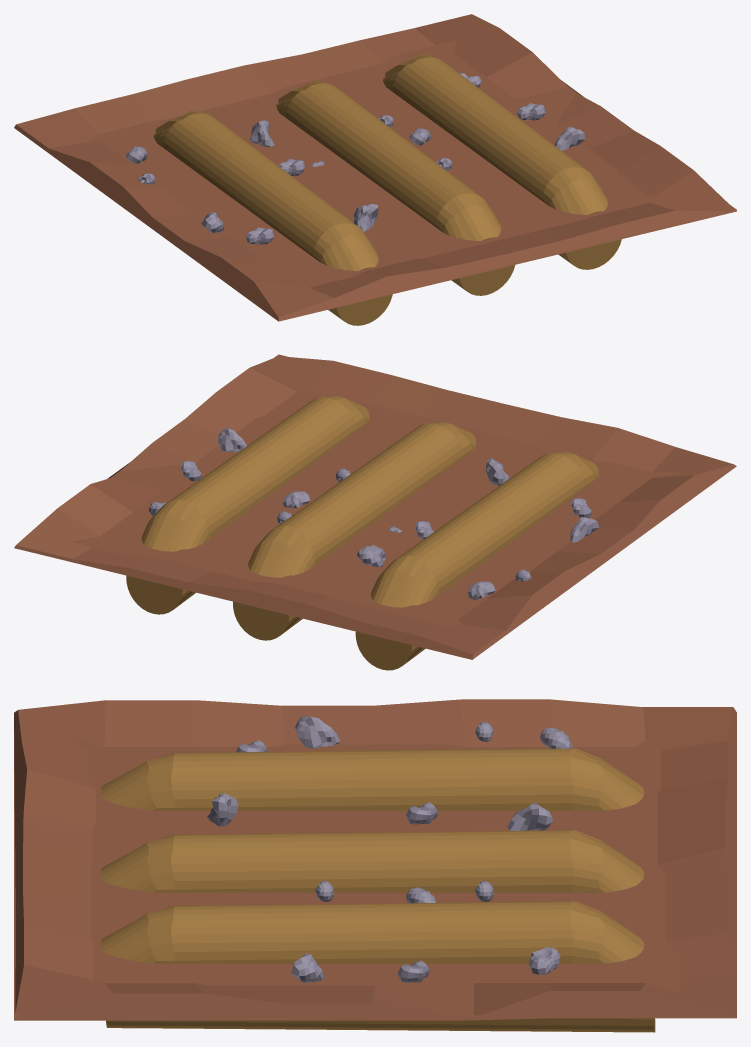
Rendered from brownfield1.fbx.
3 views of the same model, one above another, from view 1: azimuth 30°, elevation 25°; view 2: azimuth 150°, elevation 25°; view 3: azimuth 270°, elevation 25° (orthographic). The views are drawn at different scales.
Visible parts, largest first — view 1: Cube.060; view 2: Cube.060; view 3: Cube.060.
Boxes of the visible parts, x1=… form: Cube.060: x1=14, y1=14, x2=736, y2=325; Cube.060: x1=14, y1=354, x2=736, y2=670; Cube.060: x1=14, y1=699, x2=736, y2=1032.
Size of the model in its own units: 977 by 184 by 977.
